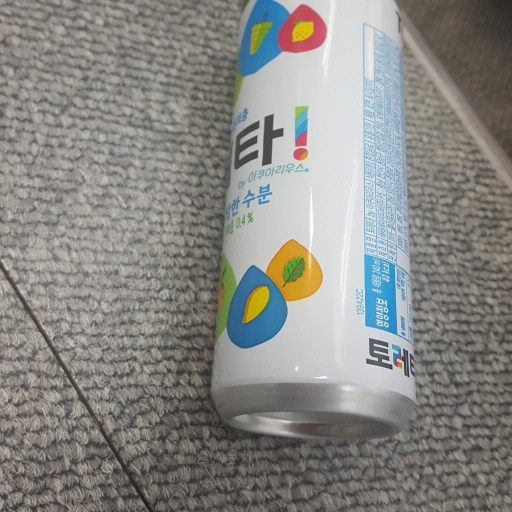Metal_0: (208, 1, 419, 444)
